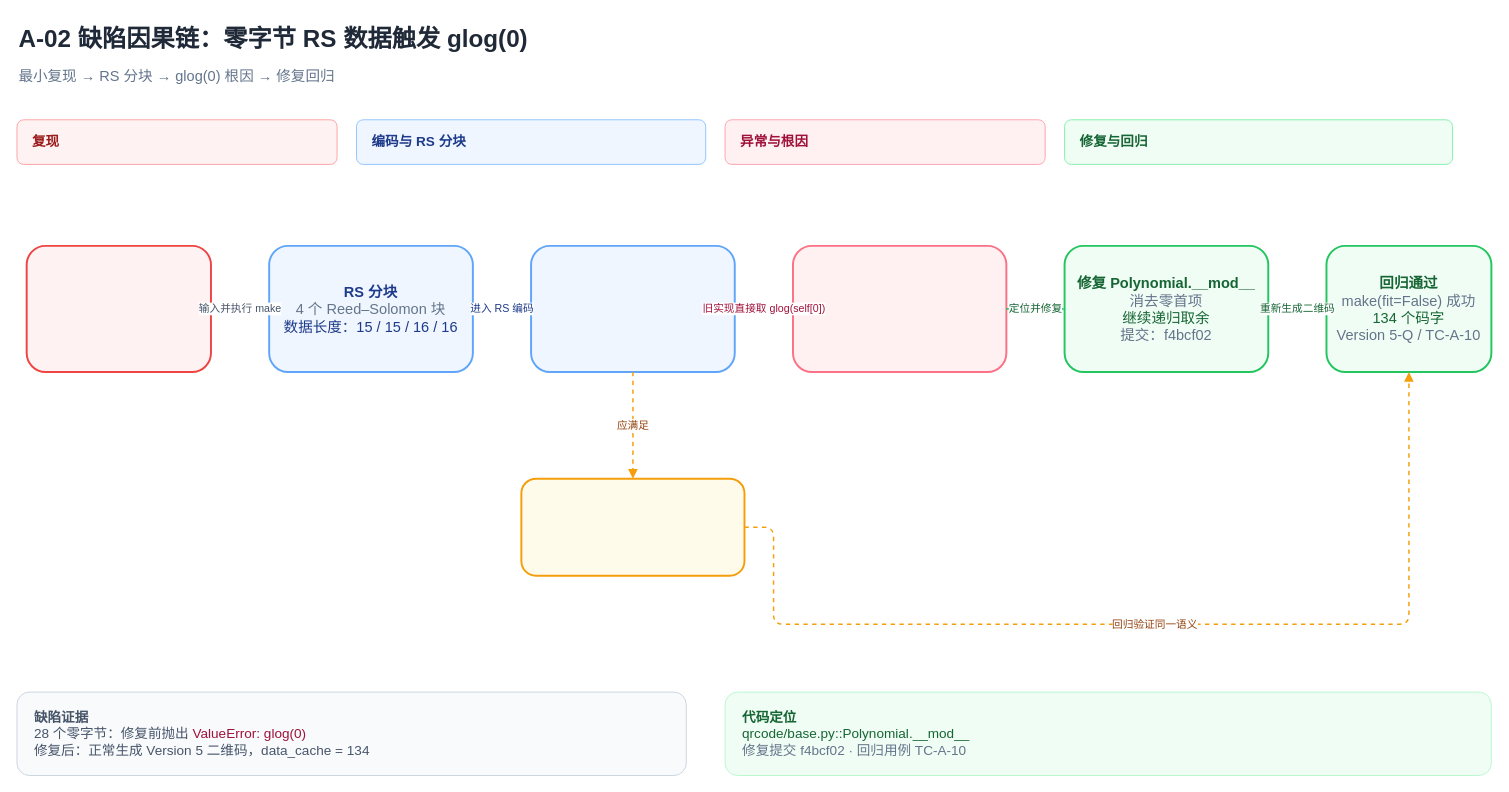
The diagram is 1509 pixels wide and 792 high, and some of its shapes have lost their labels. Each missing label, with the centre of its shape:
"glog(0) 异常 有限域中 0 无对数 修复前：ValueError 旧实现直接计算 glog(self[0])" goes at point (899, 308).
"最小复现 Version 5 · Q 级纠错 输入：28× 0x00 TC-A-10" goes at point (118, 308).
"正确语义 零值多项式应得到 零余数 + 零纠错字节" goes at point (632, 526).
"零值数据块 某个数据块的多项式 系数全为 0 仍是合法二进制输入" goes at point (632, 308).
